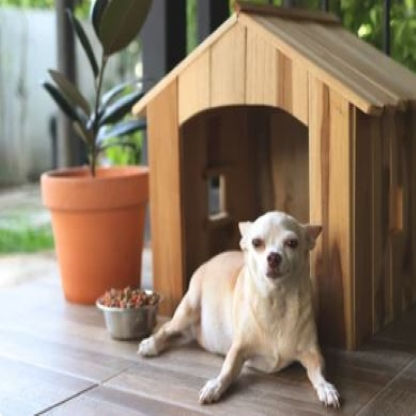chihuahua: (139, 208, 344, 407)
